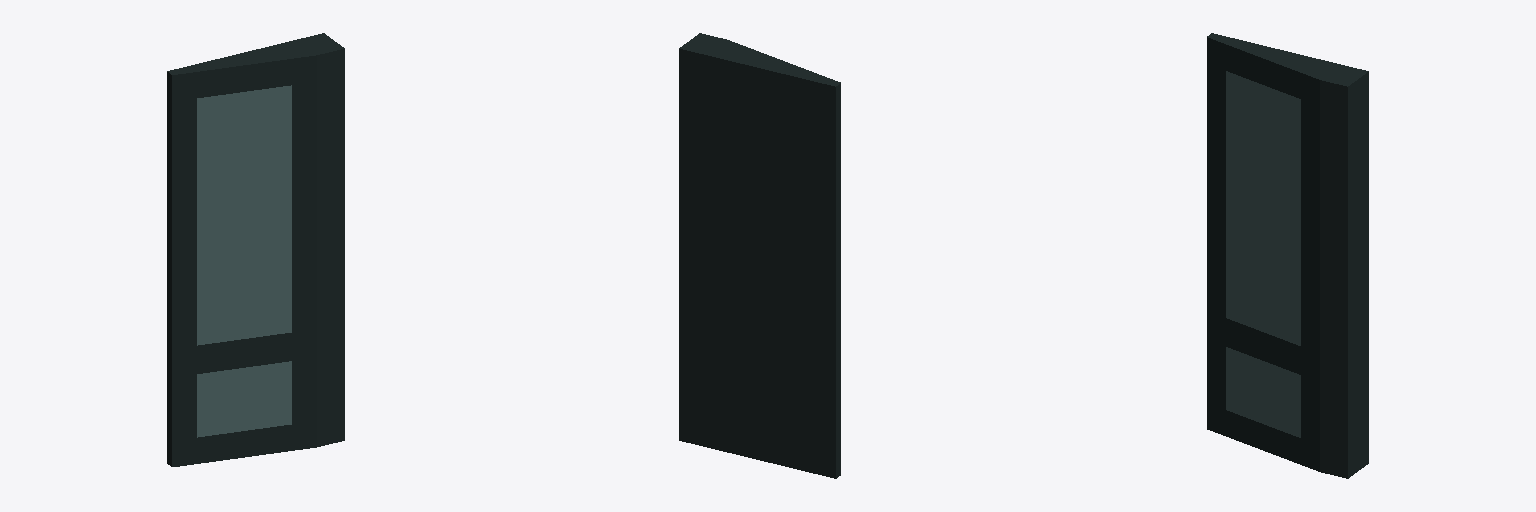
The model's file is keyboard.obj.
3 renders of one model, left to right at view 1: azimuth 30°, elevation 25°; view 2: azimuth 150°, elevation 25°; view 3: azimuth 330°, elevation 25°, orthographic.
Parts seen in each view (by area): view 1: computerKeyboard; view 2: computerKeyboard; view 3: computerKeyboard.
Part boxes in pixels (bbox=[...]): computerKeyboard: bbox=[167, 33, 344, 466]; computerKeyboard: bbox=[679, 33, 840, 478]; computerKeyboard: bbox=[1207, 33, 1368, 478].
Size of the model in its own units: 1.18 by 2.82 by 0.2756.